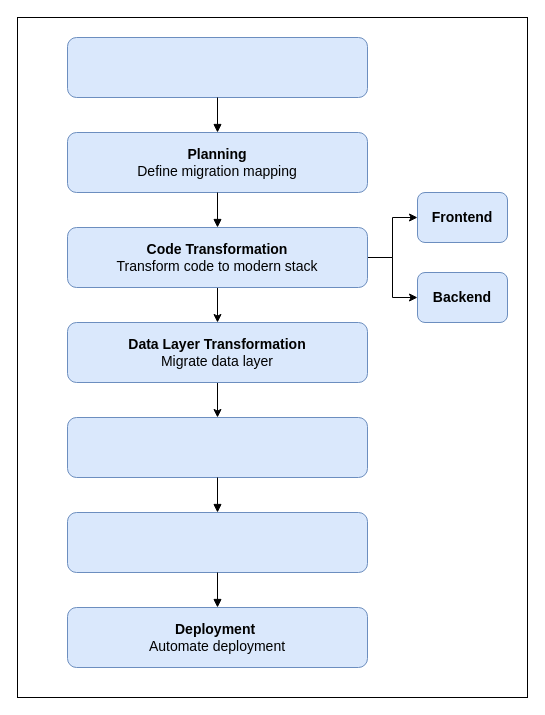
This 545x715 diagram has some shape labels left out. Here are the shapes that lost their labels. From the top down, the centre of each, then its label:
At [217,67]: "Analysis Assess legacy system".
At [217,447]: "Test Conversion Migrate testing framework".
At [217,542]: "Infrastracture Containerize and generate configs".
